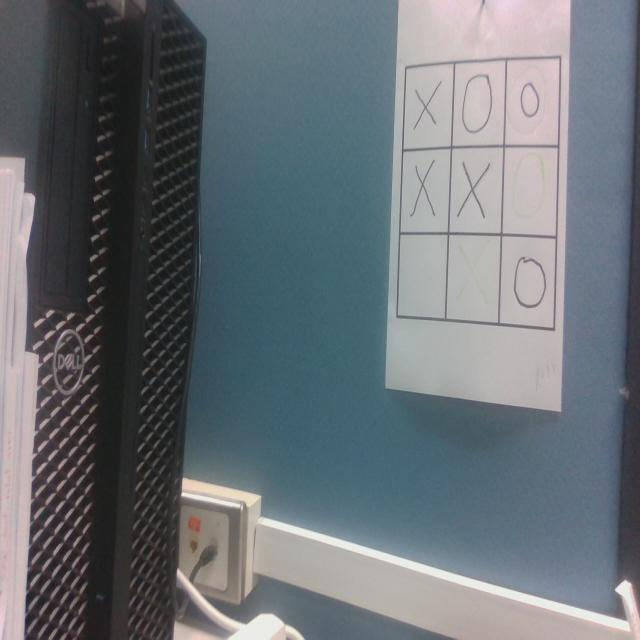null: (397, 233, 447, 320)
o: (506, 147, 556, 220), (460, 73, 493, 134), (513, 256, 547, 308), (519, 81, 541, 119)
table: (399, 58, 561, 339)
x: (447, 236, 501, 323), (458, 159, 489, 220), (410, 159, 436, 217), (413, 83, 441, 130)
